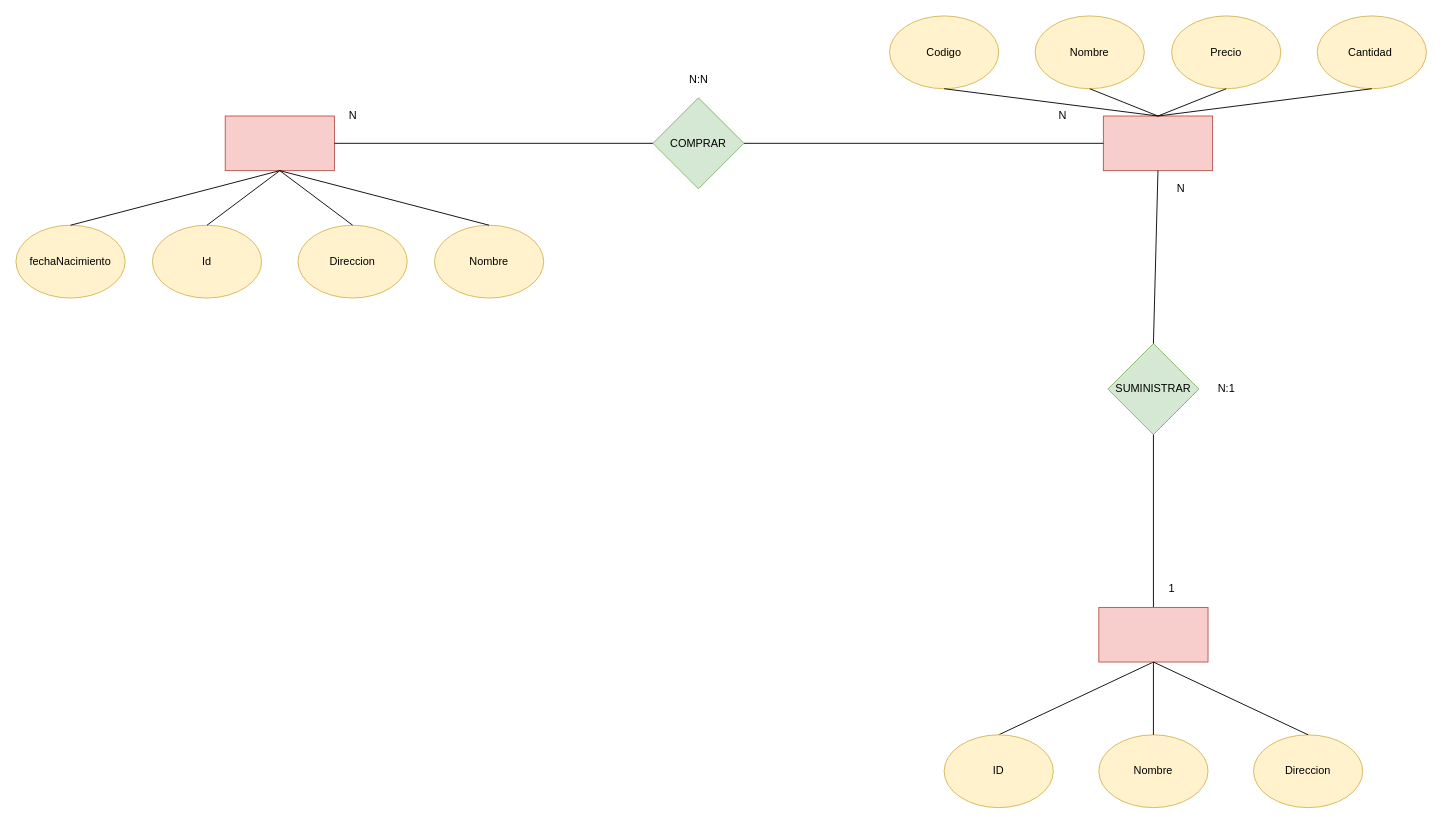
This 1442x824 diagram has some shape labels left out. Each missing label, with the box of its shape:
CLIENTES: (224, 115, 334, 171)
PRODUCTO: (1102, 115, 1213, 171)
PROVEEDOR: (1098, 607, 1208, 662)
